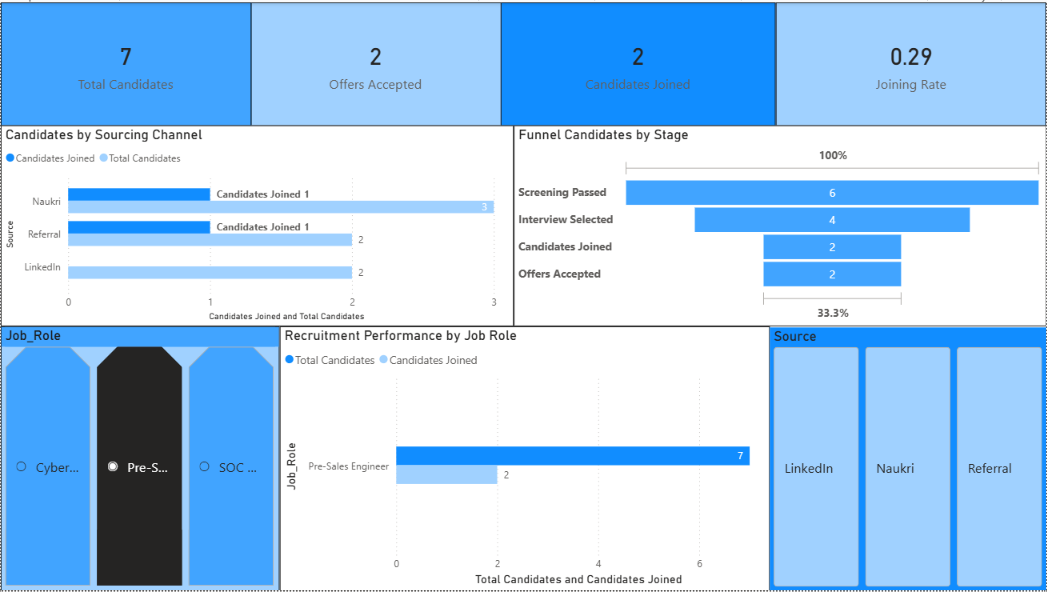

The dashboard page shown, as its layout file describes it:
{"tool":"powerbi","page":{"name":"Page 1","canvas":[1280,720],"ordinal":0},"visuals":[{"type":"card","fields":{"Values":["Table1.Candidates Joined"]},"box":[612,0,336.2,150.9],"z":0},{"type":"card","fields":{"Values":["Table1.Offers Accepted"]},"box":[306,0,306,150.9],"z":1},{"type":"card","fields":{"Values":["Table1.Total Candidates"]},"box":[0,0,306,150.9],"z":2},{"type":"card","fields":{"Values":["Table1.Joining Rate"]},"box":[948.2,0,332.1,150.9],"z":3},{"type":"clusteredBarChart","title":"Candidates by Sourcing Channel","fields":{"Category":["Table1.Source"],"Y":["Table1.Candidates Joined","Table1.Total Candidates"]},"box":[0,150.5,627.4,245.6],"z":4},{"type":"funnel","fields":{"Category":["Recruitment_Stages.Stage"],"Y":["Recruitment_Stages.Funnel Candidates"]},"box":[627.1,150.9,653.2,245.6],"z":5},{"type":"clusteredBarChart","title":"Recruitment Performance by Job Role","fields":{"Category":["Table1.Job_Role"],"Y":["Table1.Total Candidates","Table1.Candidates Joined"]},"box":[340.7,396,599,323.6],"z":6},{"type":"advancedSlicerVisual","fields":{"Values":["Table1.Job_Role"]},"box":[0,396,340.7,323.6],"z":7},{"type":"advancedSlicerVisual","fields":{"Values":["Table1.Source"]},"box":[940,397,340,323],"z":8}]}

Visuals, with their boxes in screenshot pixels (x1, y1, x2, y2), scaled from the page's 1280x720 canvas onto the 1047x592 screenshot:
card - Table1.Candidates Joined: x1=501 y1=0 x2=776 y2=124
card - Table1.Offers Accepted: x1=250 y1=0 x2=501 y2=124
card - Table1.Total Candidates: x1=0 y1=0 x2=250 y2=124
card - Table1.Joining Rate: x1=776 y1=0 x2=1046 y2=124
"Candidates by Sourcing Channel" clusteredBarChart: x1=0 y1=124 x2=513 y2=326
funnel - Recruitment_Stages.Stage x Recruitment_Stages.Funnel Candidates: x1=513 y1=124 x2=1046 y2=326
"Recruitment Performance by Job Role" clusteredBarChart: x1=279 y1=326 x2=769 y2=591
advancedSlicerVisual - Table1.Job_Role: x1=0 y1=326 x2=279 y2=591
advancedSlicerVisual - Table1.Source: x1=769 y1=326 x2=1046 y2=591
